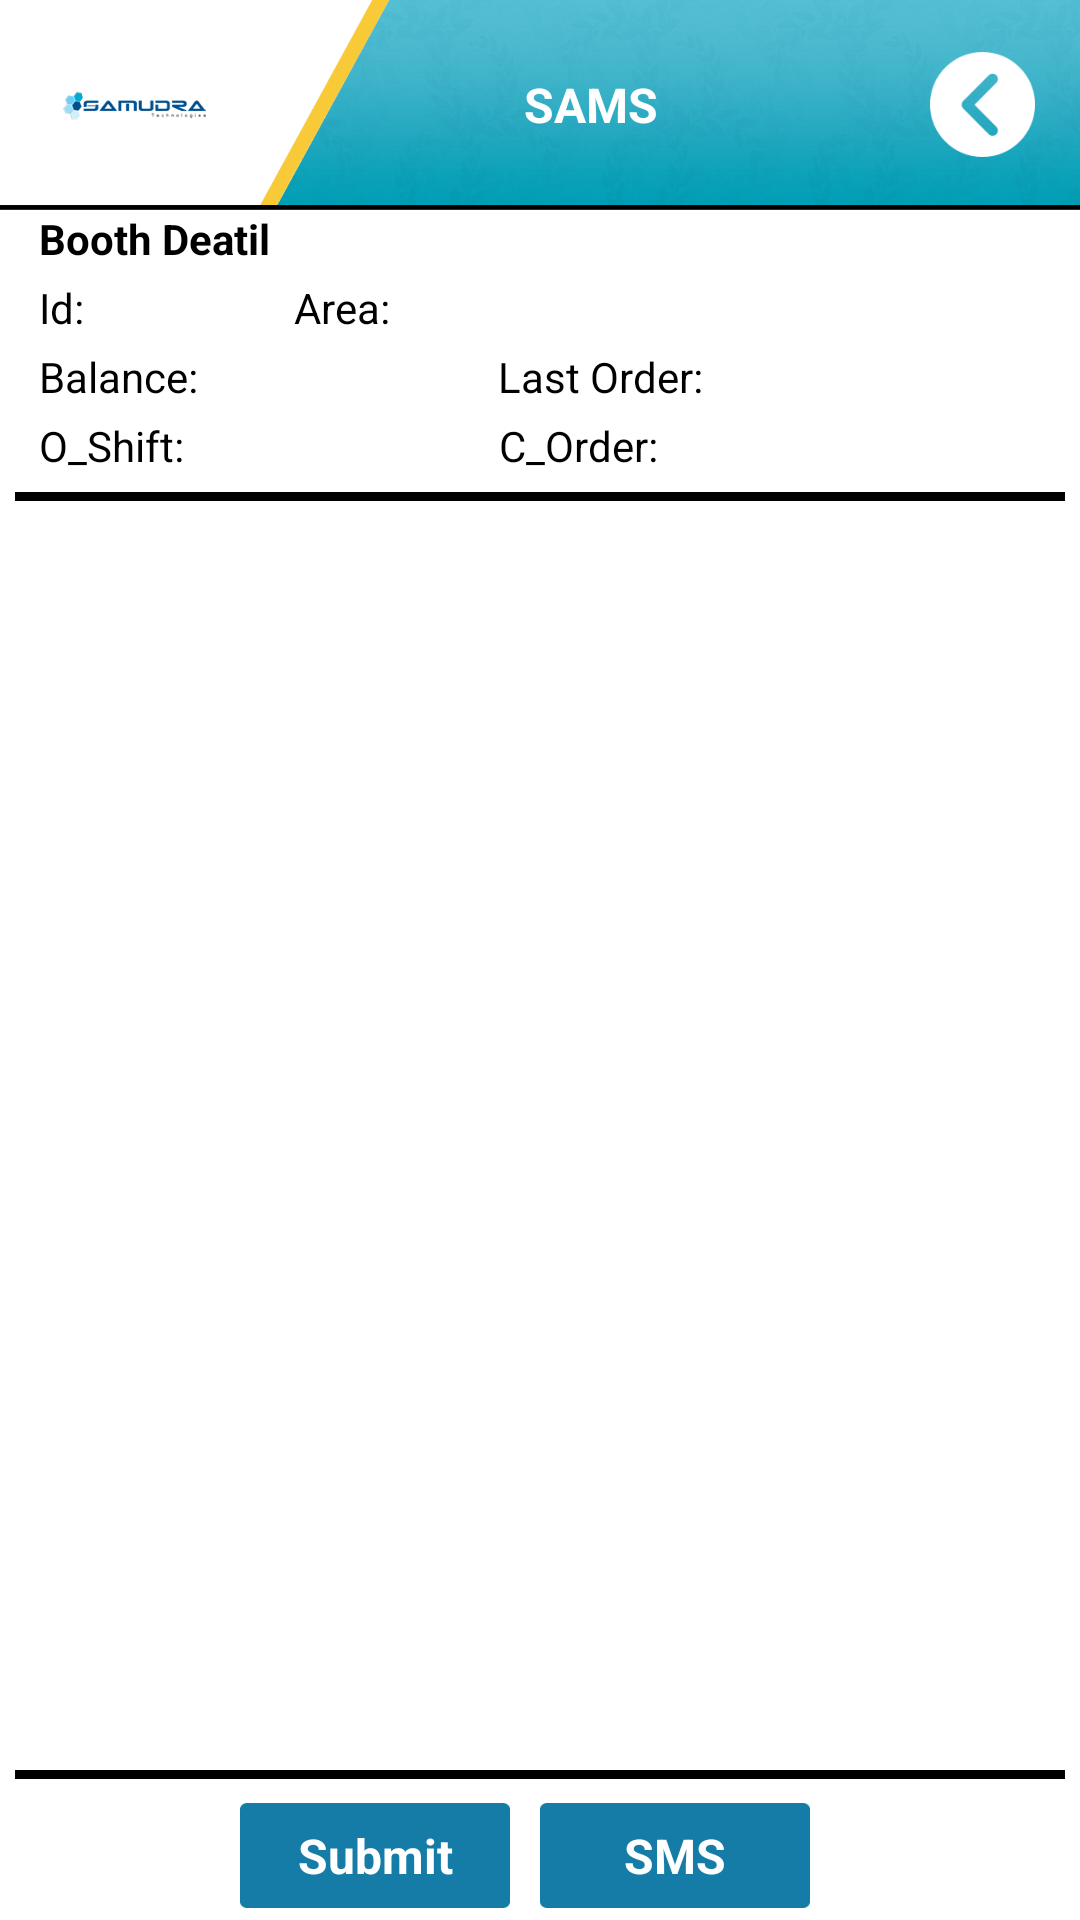

Point at icon controls on the screen. Image size 1080x1920, points as (x,y).
back: (982,104)
